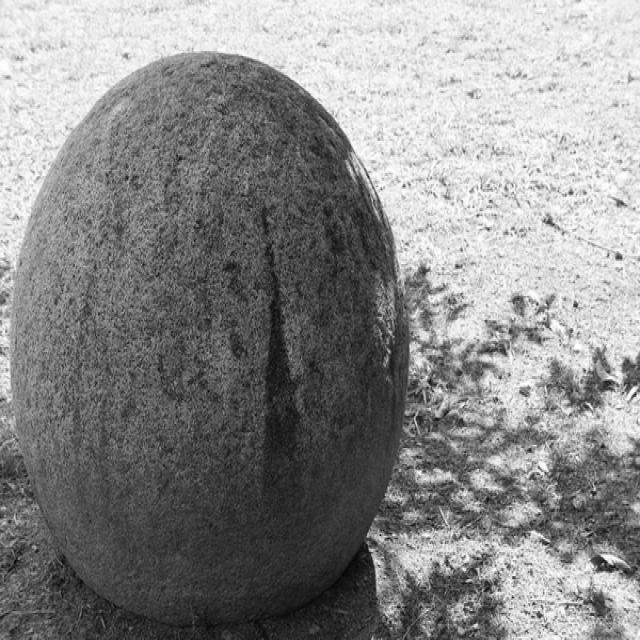Stone: (11, 51, 408, 625)
